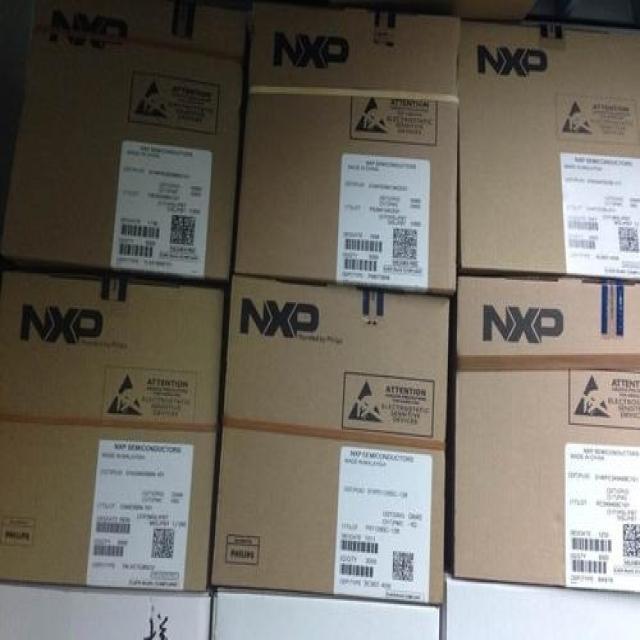box: (210, 273, 449, 604), (0, 273, 224, 592), (0, 0, 251, 280), (233, 2, 461, 295), (453, 276, 640, 594), (461, 20, 640, 280), (442, 575, 640, 640), (0, 584, 210, 640), (211, 589, 440, 640)
